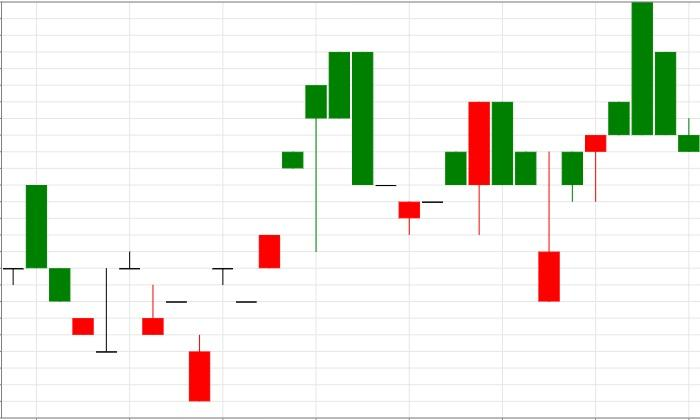hanging_man_fall: (188, 85, 327, 402)
